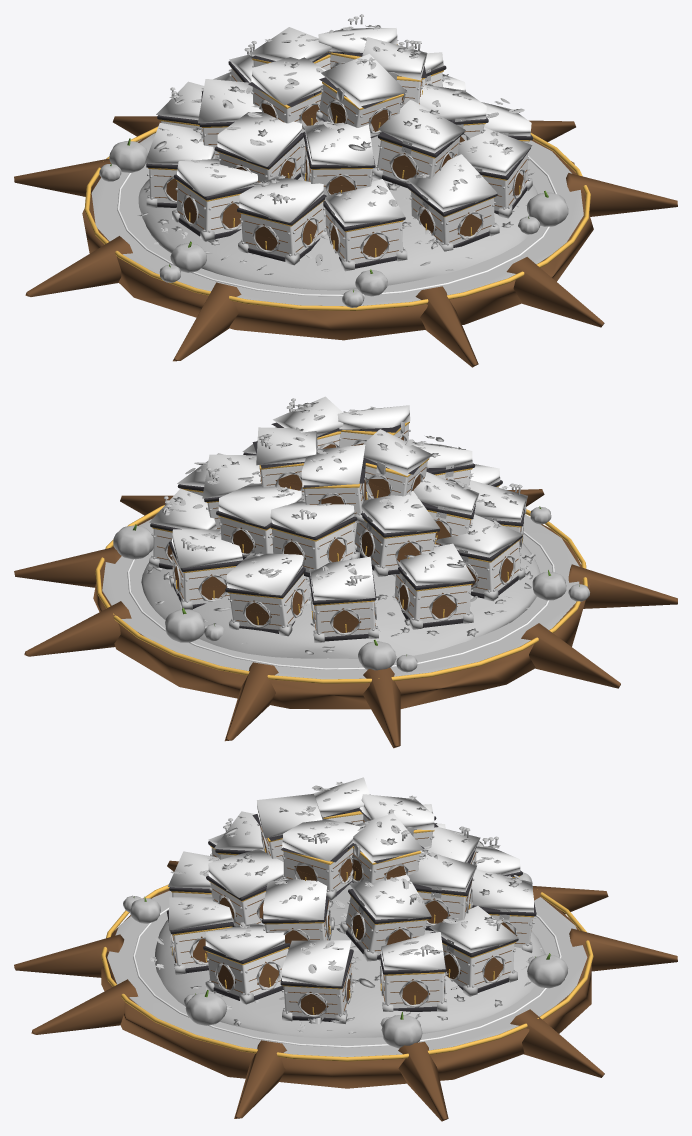
Rendered from HollowPile.obj.
The picture shows the model from 3 angles, top to bottom: view 1: azimuth 30°, elevation 25°; view 2: azimuth 150°, elevation 25°; view 3: azimuth 270°, elevation 25°; orthographic projection. The views are drawn at different scales.
Parts seen in each view (by area): view 1: Ring, Bark, StumpTop, Leafpile, Iron, Glow, Leaf3, MushStem, Leaf2, Leaf; view 2: Ring, Bark, StumpTop, Leafpile, Iron, Glow, Leaf3, MushStem, Leaf2, Leaf; view 3: Ring, Bark, StumpTop, Leafpile, Iron, Glow, Leaf3, Leaf2, Leaf, MushStem.
Part boxes in pixels (bbox=[...]): Ring: bbox=[117, 27, 556, 296]; Bark: bbox=[14, 60, 677, 367]; StumpTop: bbox=[91, 62, 583, 306]; Leafpile: bbox=[137, 14, 537, 290]; Iron: bbox=[146, 40, 532, 268]; Glow: bbox=[84, 44, 590, 310]; Leaf3: bbox=[109, 28, 568, 296]; MushStem: bbox=[99, 17, 540, 307]; Leaf2: bbox=[161, 28, 514, 274]; Leaf: bbox=[157, 25, 533, 270]; Ring: bbox=[127, 396, 554, 669]; Bark: bbox=[14, 430, 677, 748]; StumpTop: bbox=[102, 421, 579, 679]; Leafpile: bbox=[141, 398, 540, 658]; Iron: bbox=[150, 422, 524, 641]; Glow: bbox=[95, 421, 587, 683]; Leaf3: bbox=[113, 402, 566, 670]; MushStem: bbox=[165, 401, 590, 672]; Leaf2: bbox=[152, 406, 535, 632]; Leaf: bbox=[155, 402, 529, 643]; Ring: bbox=[133, 777, 561, 1047]; Bark: bbox=[14, 820, 677, 1121]; StumpTop: bbox=[107, 794, 587, 1056]; Leafpile: bbox=[155, 785, 545, 1038]; Iron: bbox=[166, 807, 536, 1022]; Glow: bbox=[101, 811, 593, 1061]; Leaf3: bbox=[130, 788, 568, 1048]; Leaf2: bbox=[170, 781, 529, 1030]; Leaf: bbox=[150, 785, 542, 1032]; MushStem: bbox=[123, 821, 537, 1026].
Bounding box in the file's own units: 33.37 × 10.91 × 33.75.
